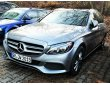License Plates: (11, 53, 31, 62)
